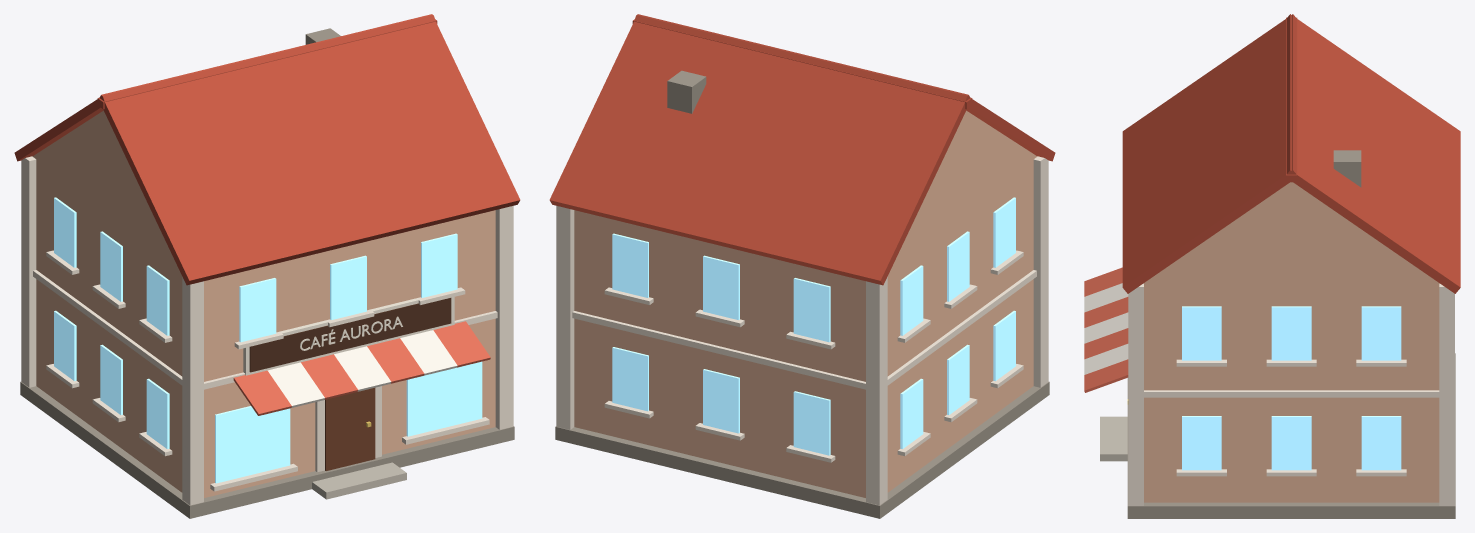
The model's file is cafe-aurora.glb.
The picture shows the model from 3 angles, left to right: view 1: azimuth 30°, elevation 25°; view 2: azimuth 150°, elevation 25°; view 3: azimuth 270°, elevation 25°; orthographic projection. The views are drawn at different scales.
Visible parts, largest first — view 1: cafe-aurora_11, cafe-aurora_1, cafe-aurora_3, cafe-aurora_2, cafe-aurora_0, cafe-aurora_7, cafe-aurora_10, cafe-aurora_8, cafe-aurora_4, cafe-aurora_6, cafe-aurora_9, cafe-aurora_letrero; view 2: cafe-aurora_1, cafe-aurora_11, cafe-aurora_3, cafe-aurora_2, cafe-aurora_0; view 3: cafe-aurora_1, cafe-aurora_11, cafe-aurora_3, cafe-aurora_2, cafe-aurora_0, cafe-aurora_7, cafe-aurora_8, cafe-aurora_6.
Part boxes in pixels (<box>): cafe-aurora_11: <box>14,14,520,285</box>; cafe-aurora_1: <box>32,110,495,497</box>; cafe-aurora_3: <box>54,197,482,483</box>; cafe-aurora_2: <box>21,156,513,505</box>; cafe-aurora_0: <box>20,28,514,518</box>; cafe-aurora_7: <box>233,321,490,415</box>; cafe-aurora_10: <box>249,298,451,372</box>; cafe-aurora_8: <box>267,330,457,407</box>; cafe-aurora_4: <box>325,388,375,470</box>; cafe-aurora_6: <box>312,462,406,499</box>; cafe-aurora_9: <box>243,290,454,375</box>; cafe-aurora_letrero: <box>300,316,402,350</box>; cafe-aurora_1: <box>574,110,1037,497</box>; cafe-aurora_11: <box>549,14,1055,285</box>; cafe-aurora_3: <box>612,197,1015,455</box>; cafe-aurora_2: <box>556,156,1048,505</box>; cafe-aurora_0: <box>555,70,1049,518</box>; cafe-aurora_1: <box>1143,182,1439,502</box>; cafe-aurora_11: <box>1122,14,1460,293</box>; cafe-aurora_3: <box>1182,306,1401,470</box>; cafe-aurora_2: <box>1128,283,1454,505</box>; cafe-aurora_0: <box>1127,150,1455,518</box>; cafe-aurora_7: <box>1084,267,1128,392</box>; cafe-aurora_8: <box>1084,283,1128,374</box>; cafe-aurora_6: <box>1100,416,1127,461</box>.
Size of the model in its own units: 10.8 by 11.19 by 10.91.
